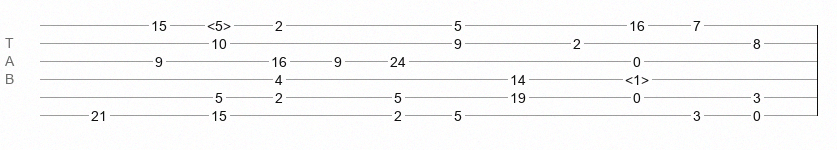0: (633, 90, 641, 100), (633, 54, 641, 64), (753, 108, 761, 118)
10: (211, 36, 227, 46)
14: (510, 72, 526, 82)
15: (151, 18, 167, 28), (211, 108, 227, 118)
16: (271, 54, 287, 64), (629, 18, 645, 28)
19: (510, 90, 526, 100)
2: (275, 90, 283, 100), (275, 18, 283, 28), (394, 108, 402, 118), (573, 36, 581, 46)
21: (91, 108, 107, 118)
24: (390, 54, 406, 64)
3: (693, 108, 701, 118), (753, 90, 761, 100)
4: (275, 72, 283, 82)
5: (215, 90, 223, 100), (394, 90, 402, 100), (454, 108, 462, 118), (454, 18, 462, 28)
7: (693, 18, 701, 28)
8: (753, 36, 761, 46)
9: (155, 54, 163, 64), (334, 54, 342, 64), (454, 36, 462, 46)
harmonic: (207, 18, 231, 28), (625, 72, 649, 82)
